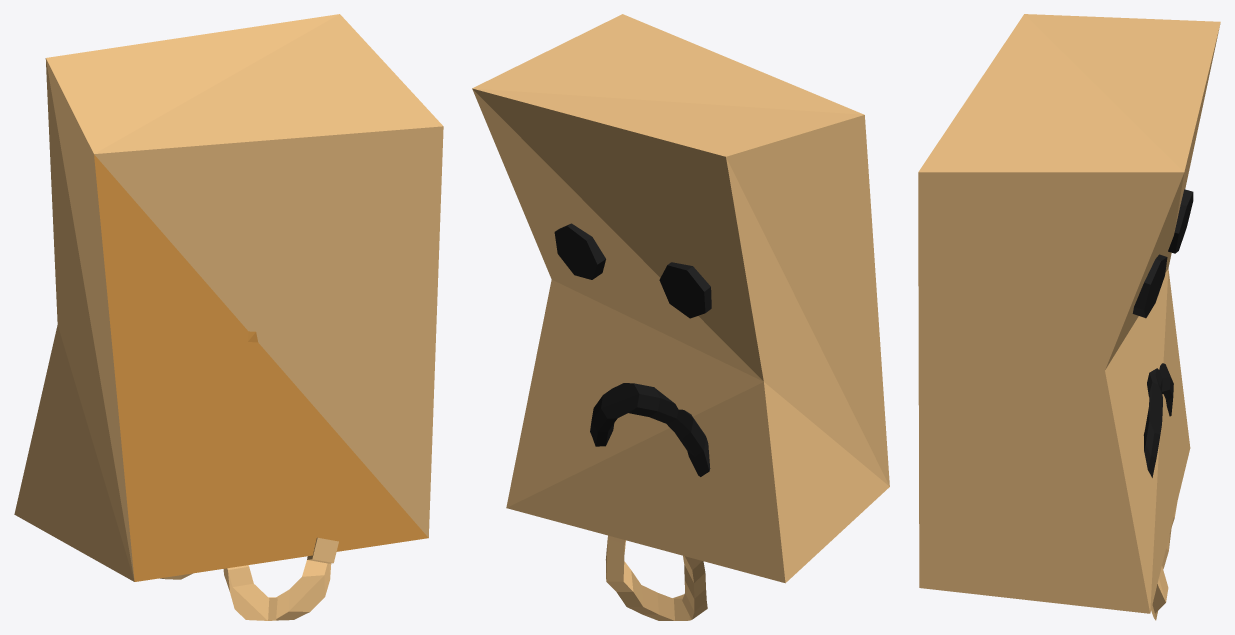
Rendered from papperBag.fbx.
The picture shows the model from 3 angles, left to right: view 1: azimuth 30°, elevation 25°; view 2: azimuth 150°, elevation 25°; view 3: azimuth 270°, elevation 25°; orthographic projection. The views are drawn at different scales.
Visible parts, largest first — view 1: group1826500939; view 2: group1826500939; view 3: group1826500939.
Part boxes in pixels (box(x1,y1,x2,y2)): group1826500939: box(14, 14, 443, 620); group1826500939: box(472, 14, 889, 620); group1826500939: box(918, 14, 1220, 620).
Size of the model in its own units: 98.37 by 152 by 77.07.
